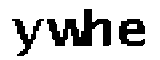e: (118, 18, 149, 49)
h: (83, 6, 115, 49)
w: (46, 16, 86, 49)
y: (9, 13, 45, 57)
